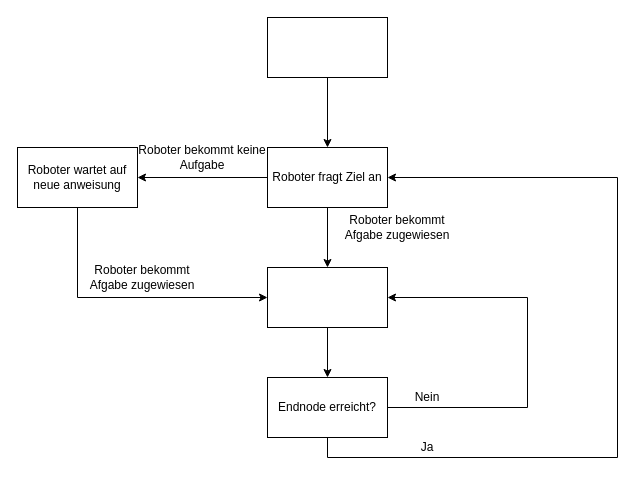
Some shapes in this 643 by 483 pixel diagram are drawn without their labels. The shapes that lost their labels are listed below. From the top down, each one's box as (x1, y1, x2, y2) in pixels, then its label:
(266, 16, 388, 78): Roboter wird gestartet mit Startnode
(266, 266, 388, 328): Roboter schaut Path an und bewegt sich zur nächsten Node
